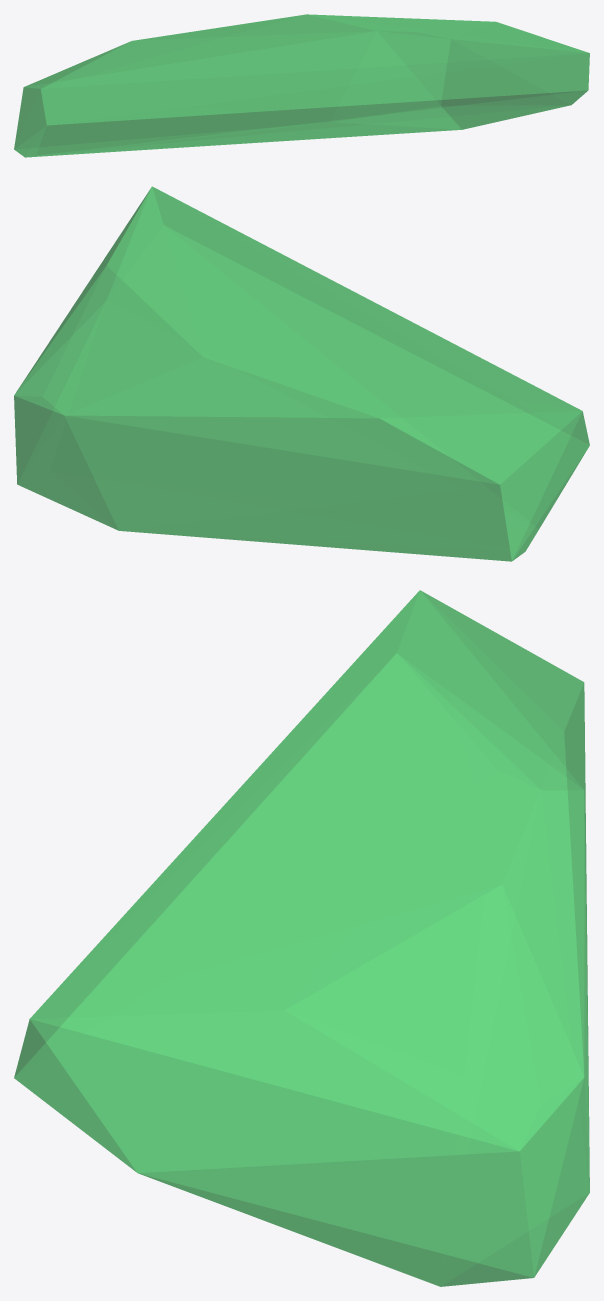
3 renders of one model, top to bottom at view 1: azimuth 30°, elevation 25°; view 2: azimuth 150°, elevation 25°; view 3: azimuth 270°, elevation 25°, orthographic. The views are drawn at different scales.
Visible parts, largest first — view 1: Shape_IndexedFaceSet.115_Shape_IndexedFaceSet.9405; view 2: Shape_IndexedFaceSet.115_Shape_IndexedFaceSet.9405; view 3: Shape_IndexedFaceSet.115_Shape_IndexedFaceSet.9405.
Part boxes in pixels (bbox=[...]): Shape_IndexedFaceSet.115_Shape_IndexedFaceSet.9405: bbox=[14, 14, 589, 157]; Shape_IndexedFaceSet.115_Shape_IndexedFaceSet.9405: bbox=[14, 186, 589, 561]; Shape_IndexedFaceSet.115_Shape_IndexedFaceSet.9405: bbox=[14, 590, 589, 1286].
Bounding box in the file's own units: 0.2201 × 0.0683 × 0.1227.
